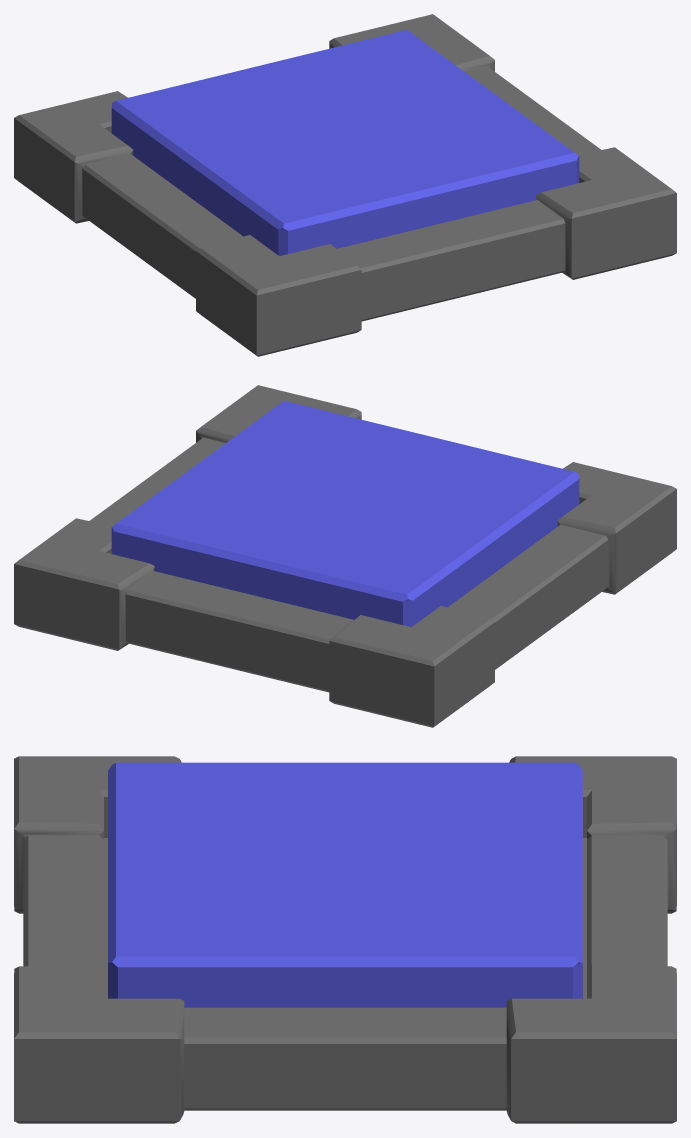
The model's file is switch_pless.fbx.
The picture shows the model from 3 angles, top to bottom: view 1: azimuth 30°, elevation 25°; view 2: azimuth 150°, elevation 25°; view 3: azimuth 270°, elevation 25°; orthographic projection. The views are drawn at different scales.
Visible parts, largest first — view 1: pCube1, pCube2; view 2: pCube1, pCube2; view 3: pCube1, pCube2.
Boxes of the visible parts, x1=… form: pCube1: x1=14, y1=14, x2=676, y2=356; pCube2: x1=111, y1=30, x2=579, y2=256; pCube1: x1=14, y1=385, x2=676, y2=727; pCube2: x1=111, y1=401, x2=579, y2=627; pCube1: x1=14, y1=756, x2=676, y2=1123; pCube2: x1=108, y1=762, x2=582, y2=1007.
Size of the model in its own units: 4.12 by 0.8629 by 4.12.
